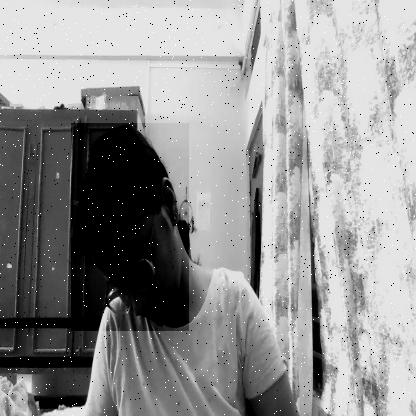Distracted: (71, 124, 189, 332)
